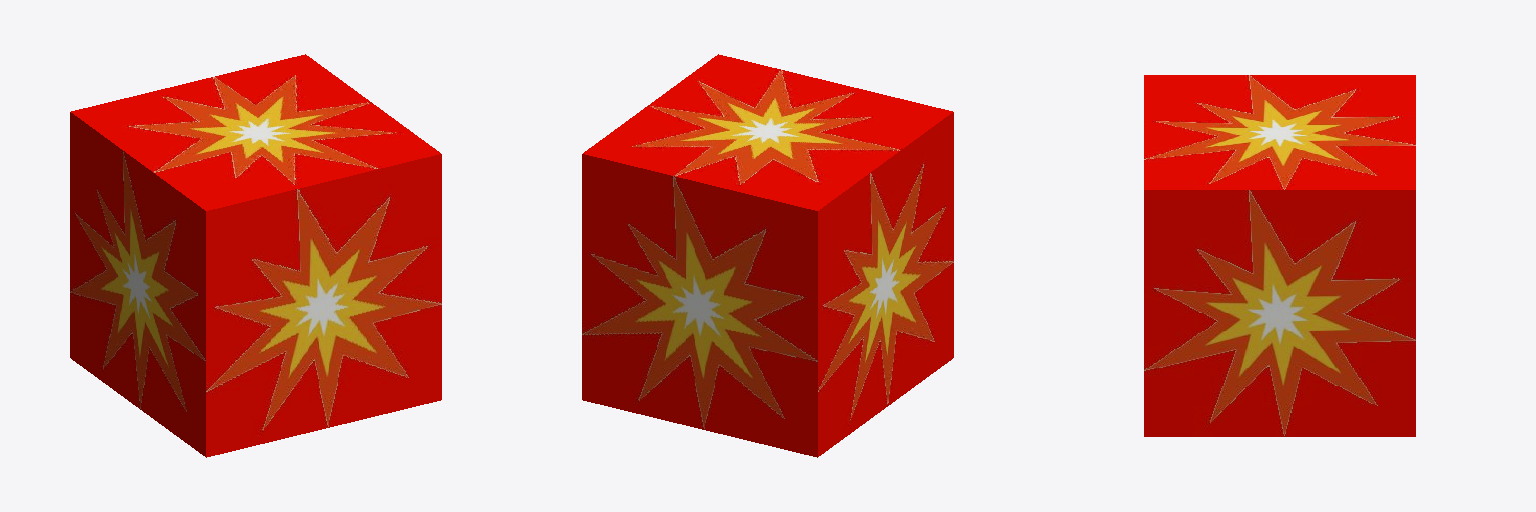
The picture shows the model from 3 angles: view 1: azimuth 30°, elevation 25°; view 2: azimuth 150°, elevation 25°; view 3: azimuth 270°, elevation 25°; orthographic projection.
Visible parts, largest first — view 1: Cube_Cube.002; view 2: Cube_Cube.002; view 3: Cube_Cube.002.
Part boxes in pixels (x1,y1,x2,y2): Cube_Cube.002: (70, 54, 441, 457); Cube_Cube.002: (582, 54, 953, 457); Cube_Cube.002: (1144, 75, 1415, 436).
Size of the model in its own units: 40 by 40 by 40.
Materials: 1 (1 with a texture image).